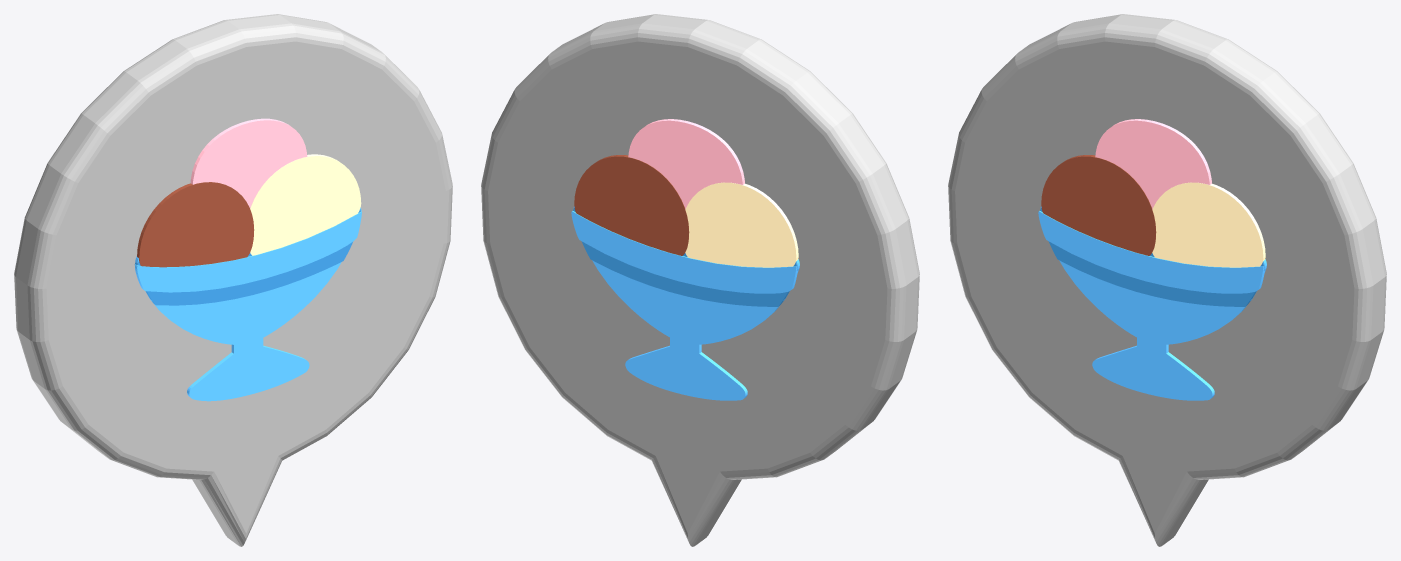
The model's file is ice_cream.glb.
3 views of the same model, side by side, from view 1: azimuth 30°, elevation 25°; view 2: azimuth 150°, elevation 25°; view 3: azimuth 330°, elevation 25° (orthographic).
Visible parts, largest first — view 1: EmotionBubble; view 2: EmotionBubble; view 3: EmotionBubble.
Boxes of the visible parts, x1,y1,x2,y2 form: EmotionBubble: (14, 14, 452, 546); EmotionBubble: (481, 14, 919, 546); EmotionBubble: (948, 14, 1386, 546).
Size of the model in its own units: 5.29 by 6.16 by 0.706.
